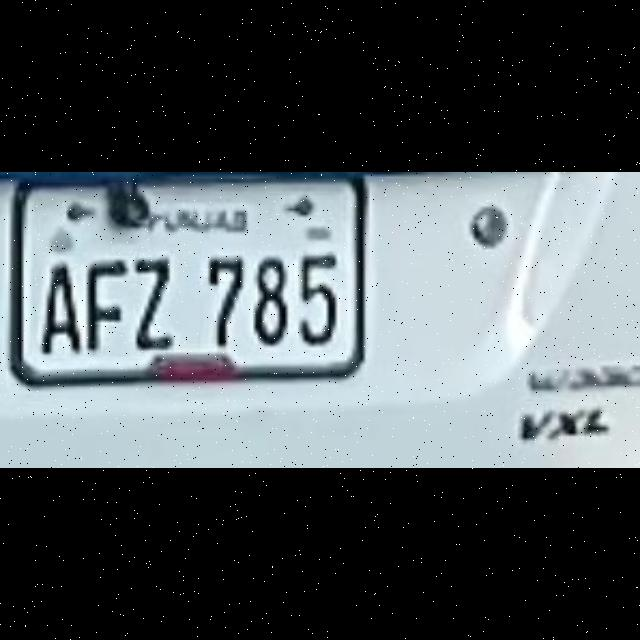5: (290, 252, 344, 358)
7: (186, 252, 240, 358)
8: (238, 252, 292, 358)
A: (28, 252, 82, 358)
F: (79, 252, 133, 358)
Z: (132, 252, 186, 358)
